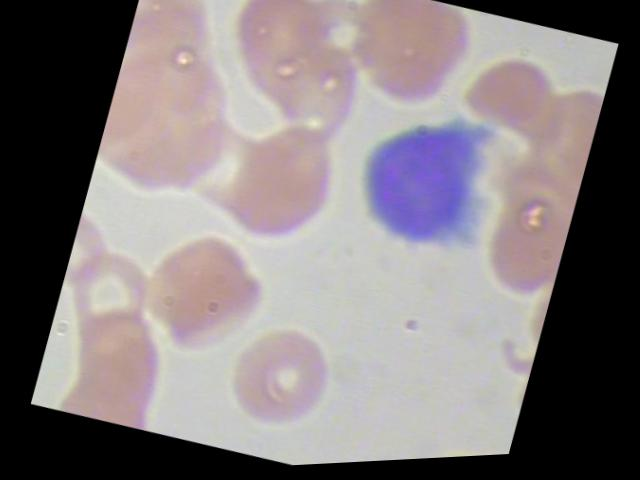Red Blood Cells: (211, 103, 359, 262), (132, 219, 279, 378), (334, 0, 484, 132), (215, 310, 344, 452), (455, 34, 567, 157), (464, 188, 574, 310), (225, 0, 337, 93), (61, 242, 161, 340), (52, 361, 160, 436)
White Blood Cells: (337, 70, 525, 285)
